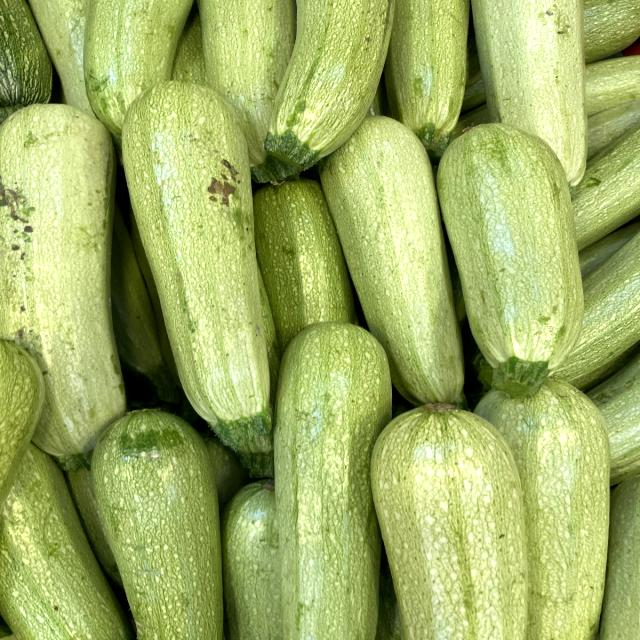zucchini: (105, 75, 291, 466), (422, 114, 590, 397)
